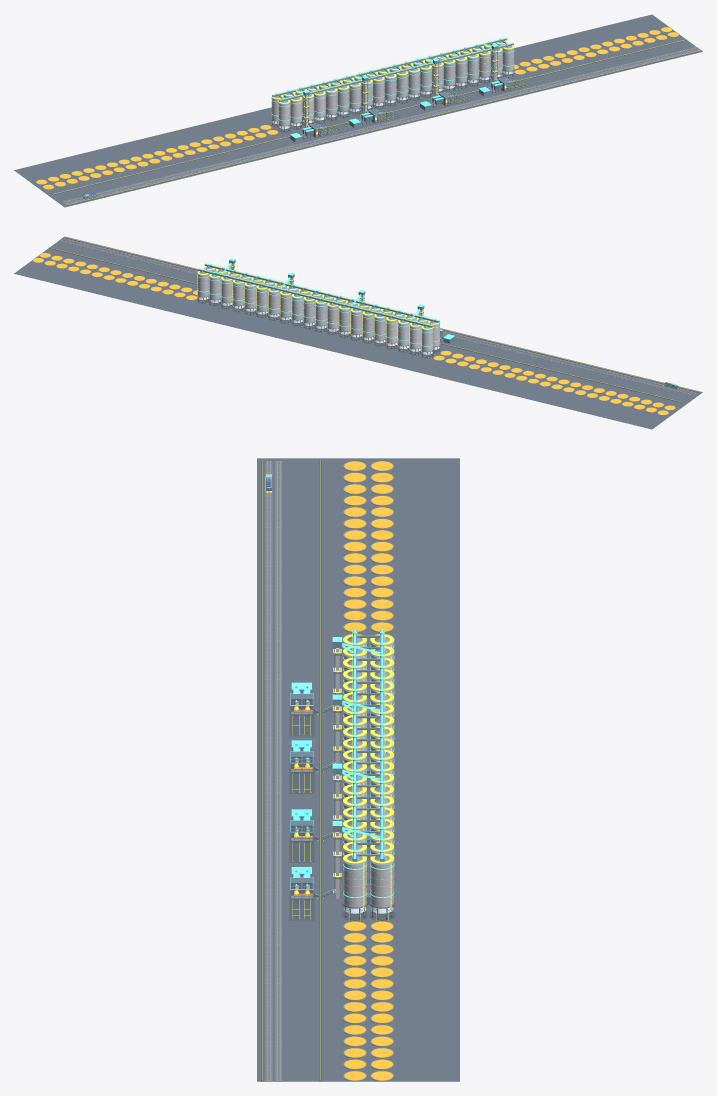
File: ash-core-v4-medium.glb
3 renders of one model, top to bottom at view 1: azimuth 30°, elevation 25°; view 2: azimuth 150°, elevation 25°; view 3: azimuth 270°, elevation 25°, orthographic. The views are drawn at different scales.
Parts seen in each view (by area): view 1: ash-core-v4-high.glb-v5_bulk_apron, ash-core-v4-high.glb-v5_flyash_silo, ash-core-v4-high.glb-v5_silo_steel, ash-core-v4-high.glb-v5_bulk_gunmetal, ash-core-v4-high.glb-v5_bulk_orange, ash-core-v4-high.glb-v5_bulk_ballast, ash-core-v4-high.glb-v5_bulk_yellow, ash-core-v4-high.glb-v5_reserved_ring, ash-core-v4-high.glb-v5_bulk_cyan, ash-core-v4-high.glb-v5_bulk_silver, ash-core-v4-high.glb-v5_bulk_rail, ash-core-v4-high.glb-v5_cement_silo (+1 smaller); view 2: ash-core-v4-high.glb-v5_bulk_apron, ash-core-v4-high.glb-v5_flyash_silo, ash-core-v4-high.glb-v5_silo_steel, ash-core-v4-high.glb-v5_bulk_orange, ash-core-v4-high.glb-v5_bulk_yellow, ash-core-v4-high.glb-v5_bulk_gunmetal, ash-core-v4-high.glb-v5_bulk_ballast, ash-core-v4-high.glb-v5_reserved_ring, ash-core-v4-high.glb-v5_cement_silo, ash-core-v4-high.glb-v5_bulk_cyan, ash-core-v4-high.glb-v5_bulk_silver, ash-core-v4-high.glb-v5_bulk_rail; view 3: ash-core-v4-high.glb-v5_bulk_apron, ash-core-v4-high.glb-v5_bulk_orange, ash-core-v4-high.glb-v5_bulk_ballast, ash-core-v4-high.glb-v5_silo_steel, ash-core-v4-high.glb-v5_bulk_yellow, ash-core-v4-high.glb-v5_bulk_gunmetal, ash-core-v4-high.glb-v5_reserved_ring, ash-core-v4-high.glb-v5_flyash_silo, ash-core-v4-high.glb-v5_bulk_cyan, ash-core-v4-high.glb-v5_bulk_rail, ash-core-v4-high.glb-v5_bulk_silver, ash-core-v4-high.glb-v5_unload_cladding (+1 smaller).
Boxes of the visible parts, x1,y1,x2,y2 form: ash-core-v4-high.glb-v5_bulk_apron: [14, 14, 702, 207]; ash-core-v4-high.glb-v5_flyash_silo: [319, 43, 514, 117]; ash-core-v4-high.glb-v5_silo_steel: [271, 38, 516, 142]; ash-core-v4-high.glb-v5_bulk_gunmetal: [52, 39, 701, 205]; ash-core-v4-high.glb-v5_bulk_orange: [36, 27, 678, 189]; ash-core-v4-high.glb-v5_bulk_ballast: [62, 47, 700, 204]; ash-core-v4-high.glb-v5_bulk_yellow: [53, 37, 700, 204]; ash-core-v4-high.glb-v5_reserved_ring: [36, 27, 679, 189]; ash-core-v4-high.glb-v5_bulk_cyan: [272, 37, 515, 135]; ash-core-v4-high.glb-v5_bulk_silver: [85, 39, 513, 195]; ash-core-v4-high.glb-v5_bulk_rail: [64, 47, 699, 204]; ash-core-v4-high.glb-v5_cement_silo: [271, 89, 325, 128]; ash-core-v4-high.glb-v5_bulk_apron: [14, 236, 702, 429]; ash-core-v4-high.glb-v5_flyash_silo: [197, 269, 392, 343]; ash-core-v4-high.glb-v5_silo_steel: [197, 260, 454, 356]; ash-core-v4-high.glb-v5_bulk_orange: [33, 253, 675, 414]; ash-core-v4-high.glb-v5_bulk_yellow: [49, 237, 697, 402]; ash-core-v4-high.glb-v5_bulk_gunmetal: [49, 237, 697, 402]; ash-core-v4-high.glb-v5_bulk_ballast: [59, 238, 697, 395]; ash-core-v4-high.glb-v5_reserved_ring: [32, 253, 675, 415]; ash-core-v4-high.glb-v5_cement_silo: [386, 315, 439, 354]; ash-core-v4-high.glb-v5_bulk_cyan: [197, 258, 445, 335]; ash-core-v4-high.glb-v5_bulk_silver: [198, 264, 676, 388]; ash-core-v4-high.glb-v5_bulk_rail: [59, 238, 696, 395]; ash-core-v4-high.glb-v5_bulk_apron: [257, 458, 459, 1081]; ash-core-v4-high.glb-v5_bulk_orange: [292, 461, 393, 1080]; ash-core-v4-high.glb-v5_bulk_ballast: [265, 461, 282, 1081]; ash-core-v4-high.glb-v5_silo_steel: [290, 630, 394, 917]; ash-core-v4-high.glb-v5_bulk_yellow: [262, 461, 394, 1080]; ash-core-v4-high.glb-v5_bulk_gunmetal: [261, 461, 395, 1081]; ash-core-v4-high.glb-v5_reserved_ring: [343, 461, 394, 1081]; ash-core-v4-high.glb-v5_flyash_silo: [343, 689, 393, 913]; ash-core-v4-high.glb-v5_bulk_cyan: [290, 629, 394, 897]; ash-core-v4-high.glb-v5_bulk_rail: [267, 461, 280, 1080]; ash-core-v4-high.glb-v5_bulk_silver: [266, 474, 394, 901]; ash-core-v4-high.glb-v5_unload_cladding: [290, 694, 370, 904].
Bounding box in the file's own units: 758 × 42.64 × 104.
